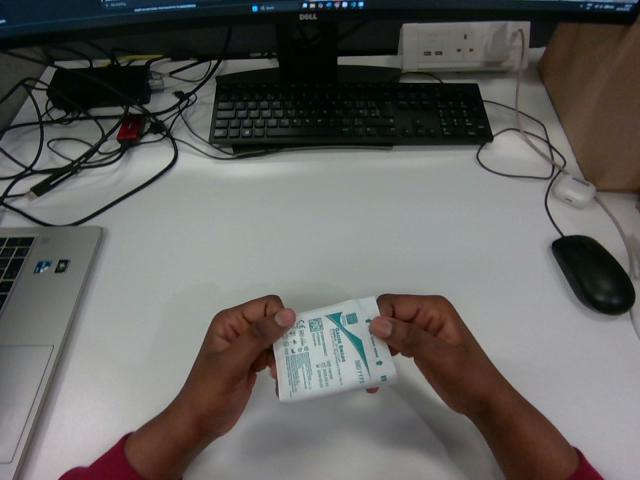gauze: (274, 297, 396, 402)
